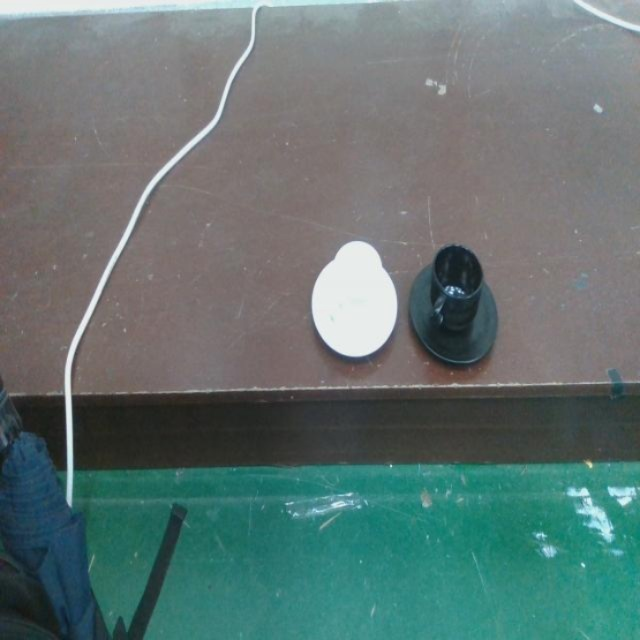black: (406, 240, 500, 372)
white: (309, 238, 399, 364)
